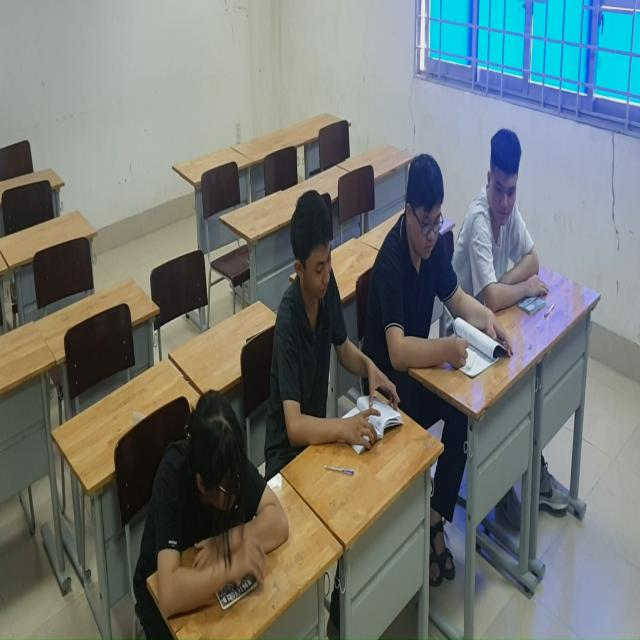read: (269, 187, 401, 457), (378, 148, 514, 377), (462, 118, 557, 323)
sleep: (124, 392, 294, 630)
